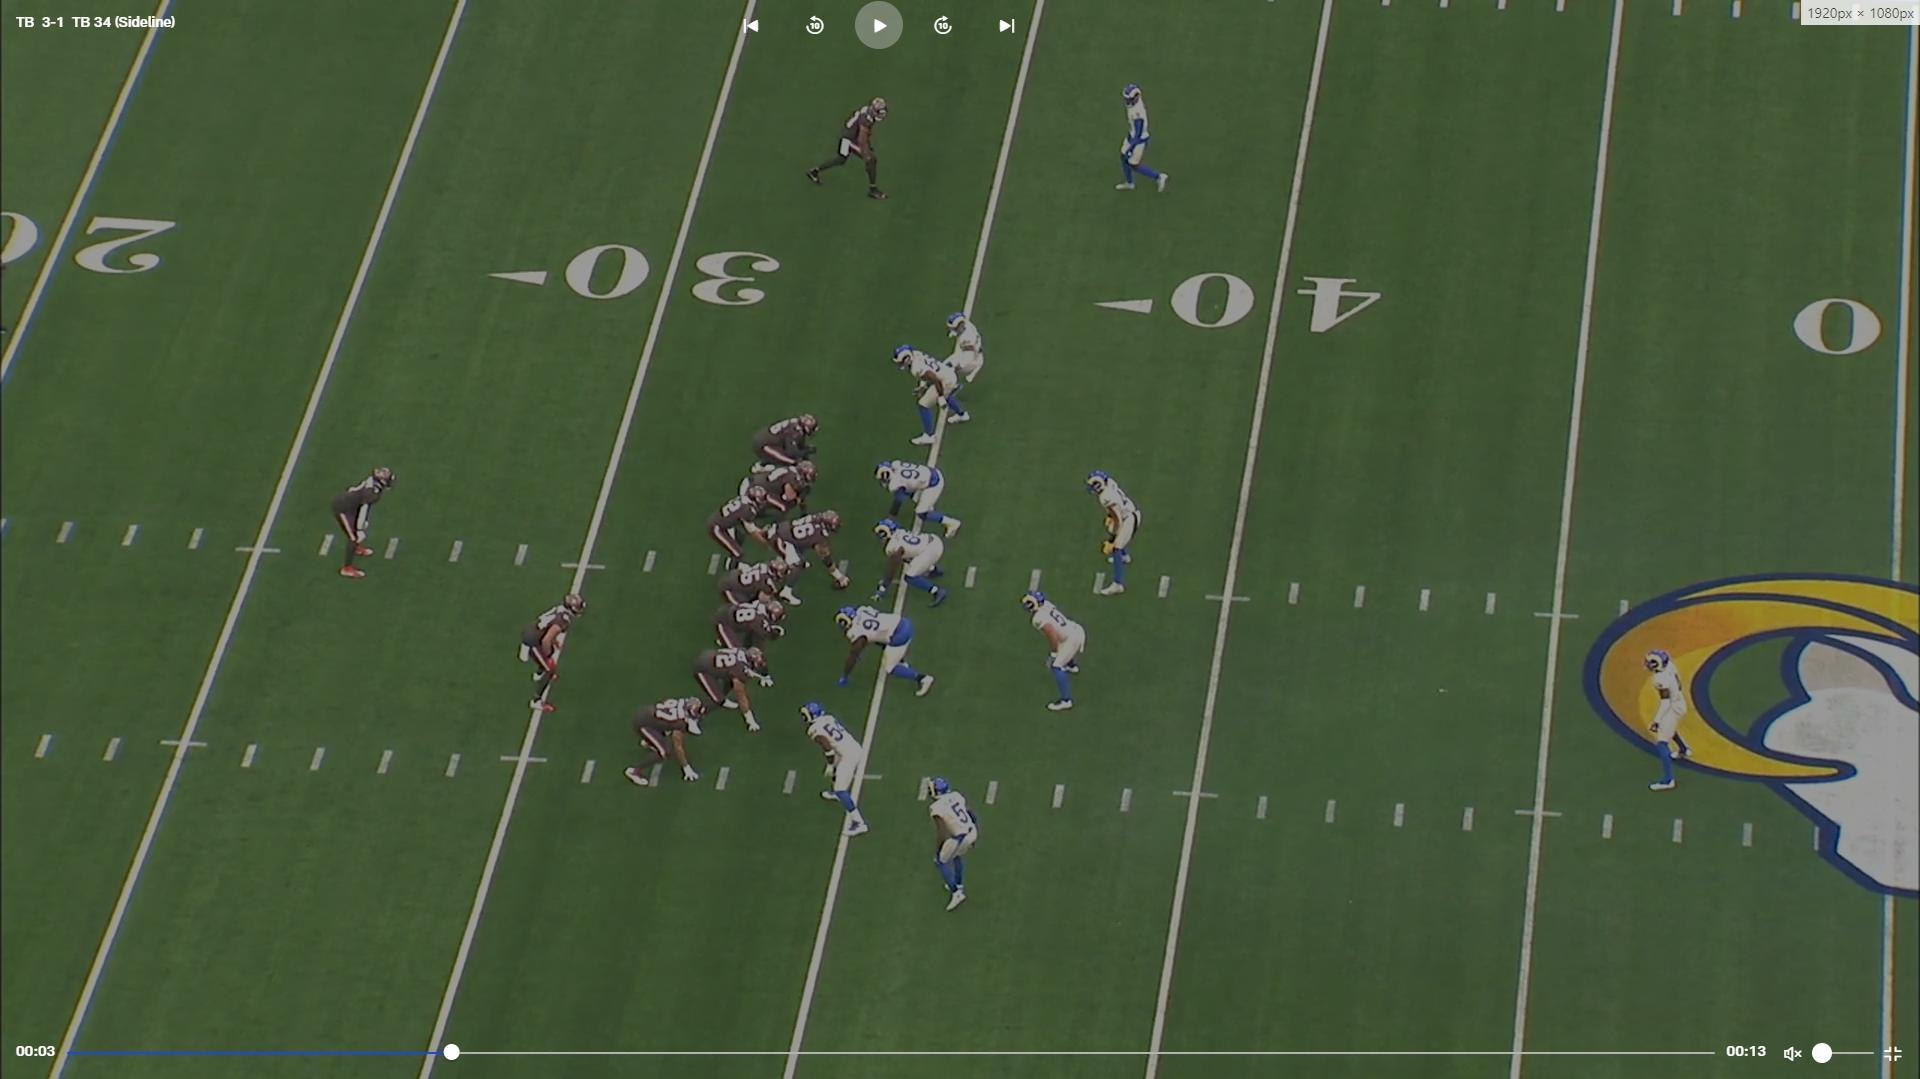player: (802, 95, 896, 209), (832, 596, 937, 695), (806, 697, 878, 839), (916, 770, 982, 916), (1021, 583, 1092, 714), (886, 337, 968, 447), (1643, 642, 1701, 797), (525, 590, 594, 715), (626, 689, 710, 790), (1080, 465, 1141, 602), (768, 508, 856, 600), (869, 456, 966, 539), (869, 520, 952, 616), (1113, 79, 1176, 203), (692, 643, 771, 739), (331, 466, 395, 584), (712, 597, 790, 693), (716, 555, 797, 646), (701, 474, 765, 580), (752, 413, 827, 482), (941, 304, 989, 409), (751, 461, 825, 517)
